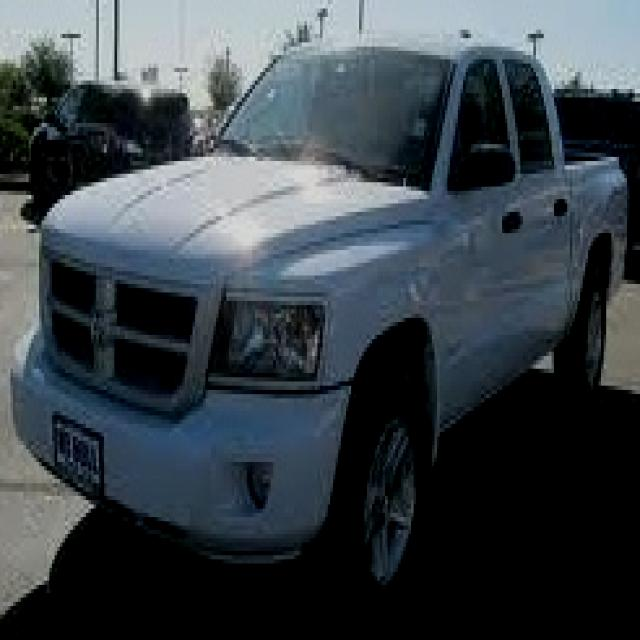CMT: (34, 34, 630, 578)
